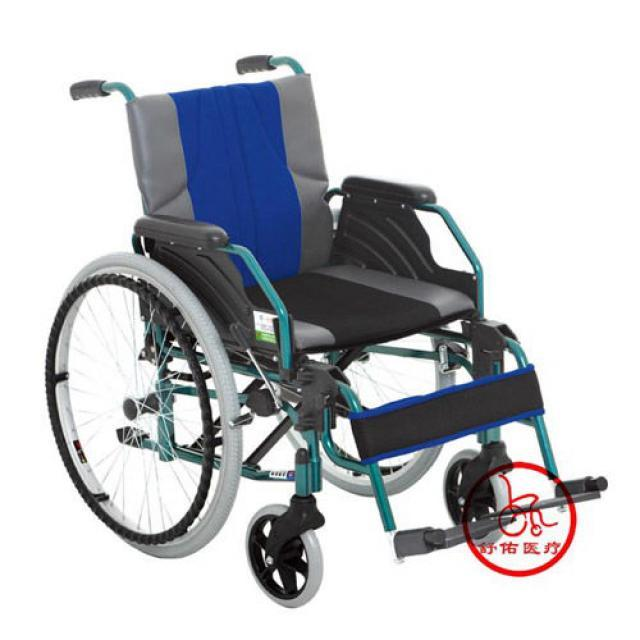wheelchair: (24, 49, 618, 618)
